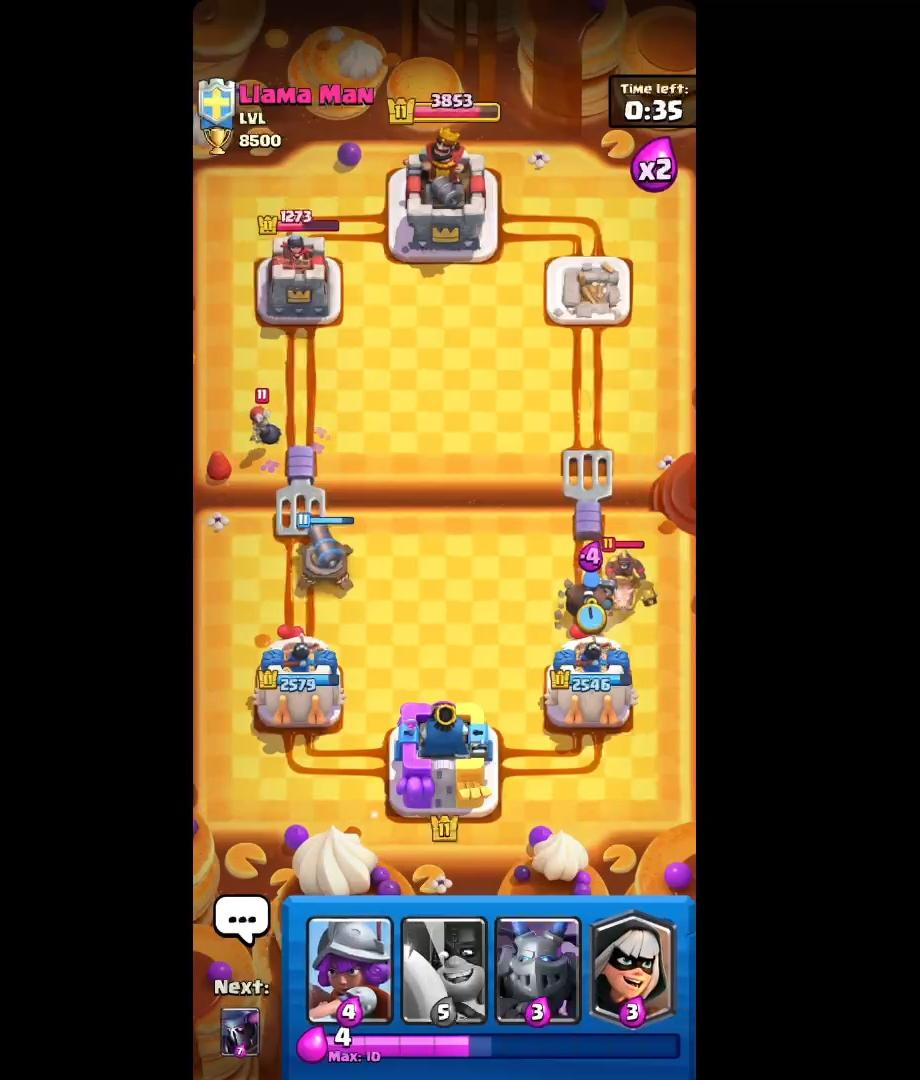Bomber: (250, 382, 297, 449)
Hog Rider: (601, 533, 666, 619)
